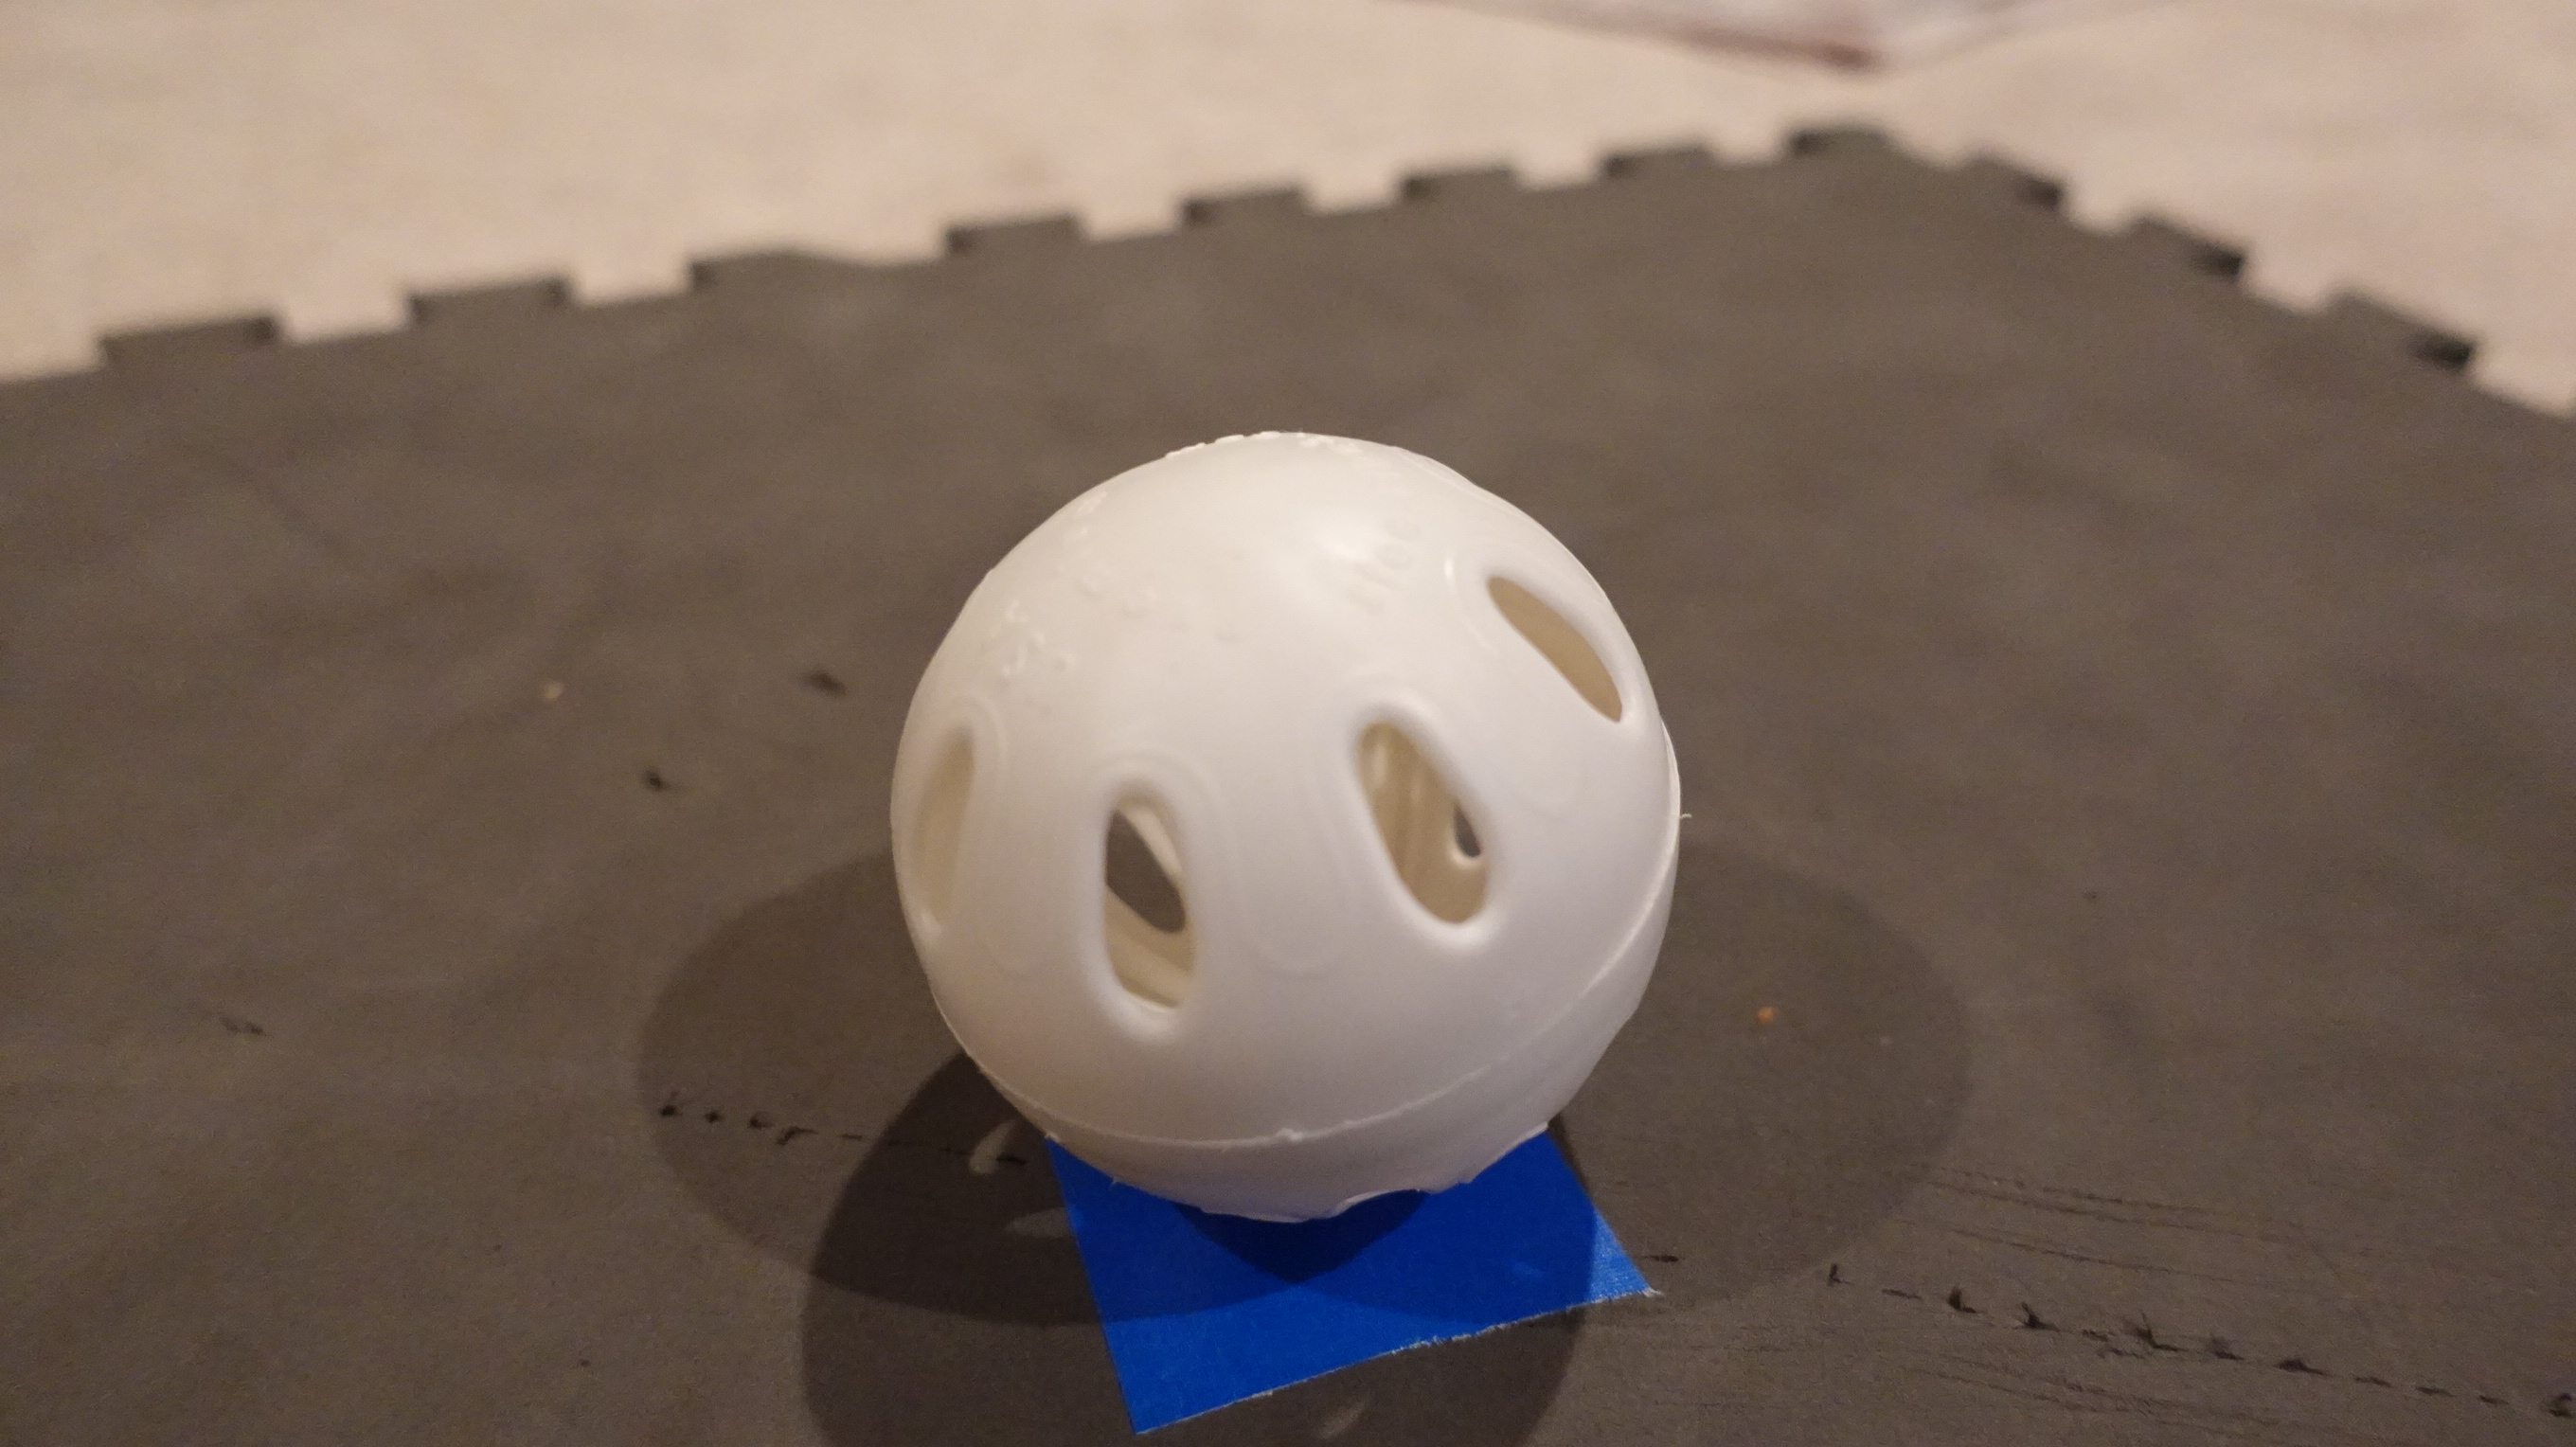silver: (885, 419, 1691, 1236)
